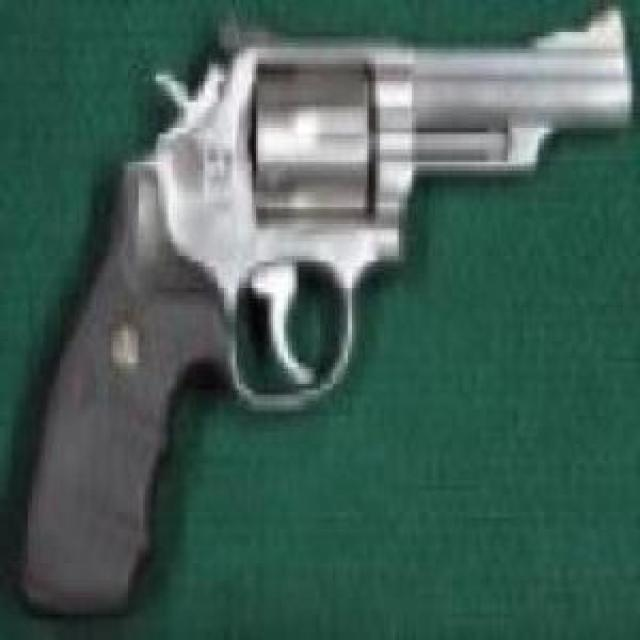pistol: (12, 11, 631, 624)
